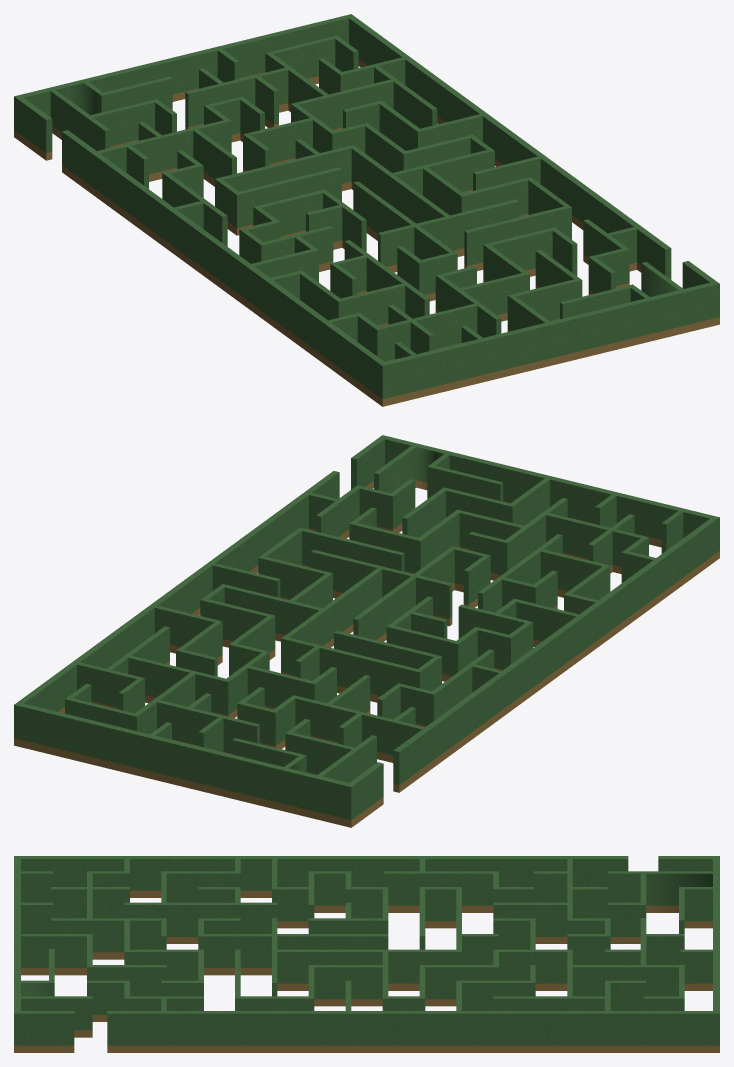
The model's file is maze 4.glb.
3 renders of one model, top to bottom at view 1: azimuth 30°, elevation 25°; view 2: azimuth 150°, elevation 25°; view 3: azimuth 270°, elevation 25°, orthographic. The views are drawn at different scales.
Parts seen in each view (by area): view 1: maze_4; view 2: maze_4; view 3: maze_4.
Part boxes in pixels (<box>): maze_4: <box>14,14,719,406</box>; maze_4: <box>14,435,719,827</box>; maze_4: <box>14,856,719,1052</box>.
Size of what is drawn, in the model's own units: 36.54 by 4.22 by 69.13.
2 materials, 1 textured.
